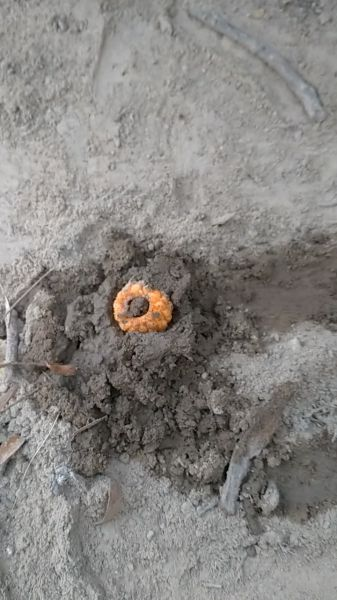eggs: (105, 277, 186, 338)
